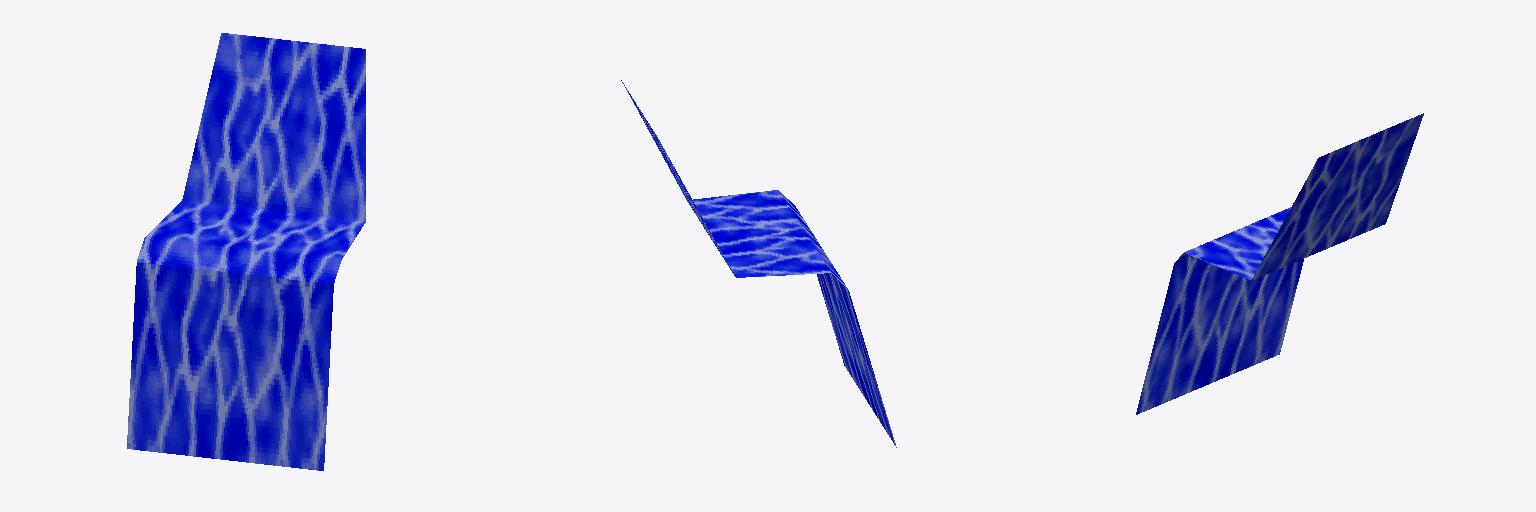
The picture shows the model from 3 angles: view 1: azimuth 30°, elevation 25°; view 2: azimuth 150°, elevation 25°; view 3: azimuth 270°, elevation 25°; orthographic projection.
Visible parts, largest first — view 1: waterFall1_ShapeIndexedFaceSet.86_ShapeIndexedFaceSet.011; view 2: waterFall1_ShapeIndexedFaceSet.86_ShapeIndexedFaceSet.011; view 3: waterFall1_ShapeIndexedFaceSet.86_ShapeIndexedFaceSet.011.
Boxes of the visible parts, x1=… form: waterFall1_ShapeIndexedFaceSet.86_ShapeIndexedFaceSet.011: x1=127, y1=33, x2=365, y2=470; waterFall1_ShapeIndexedFaceSet.86_ShapeIndexedFaceSet.011: x1=621, y1=80, x2=896, y2=447; waterFall1_ShapeIndexedFaceSet.86_ShapeIndexedFaceSet.011: x1=1136, y1=113, x2=1423, y2=414.
Size of the model in its own units: 3.1 by 3.7 by 3.
Materials: 1 (1 with a texture image).